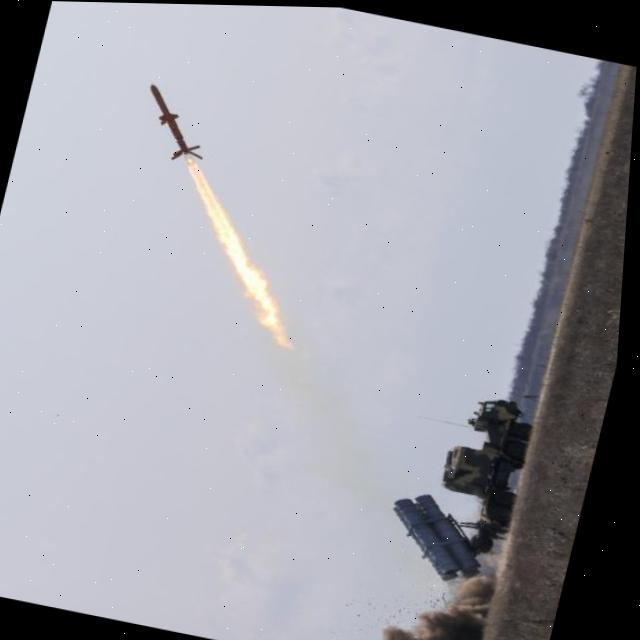missile: (130, 78, 217, 163)
